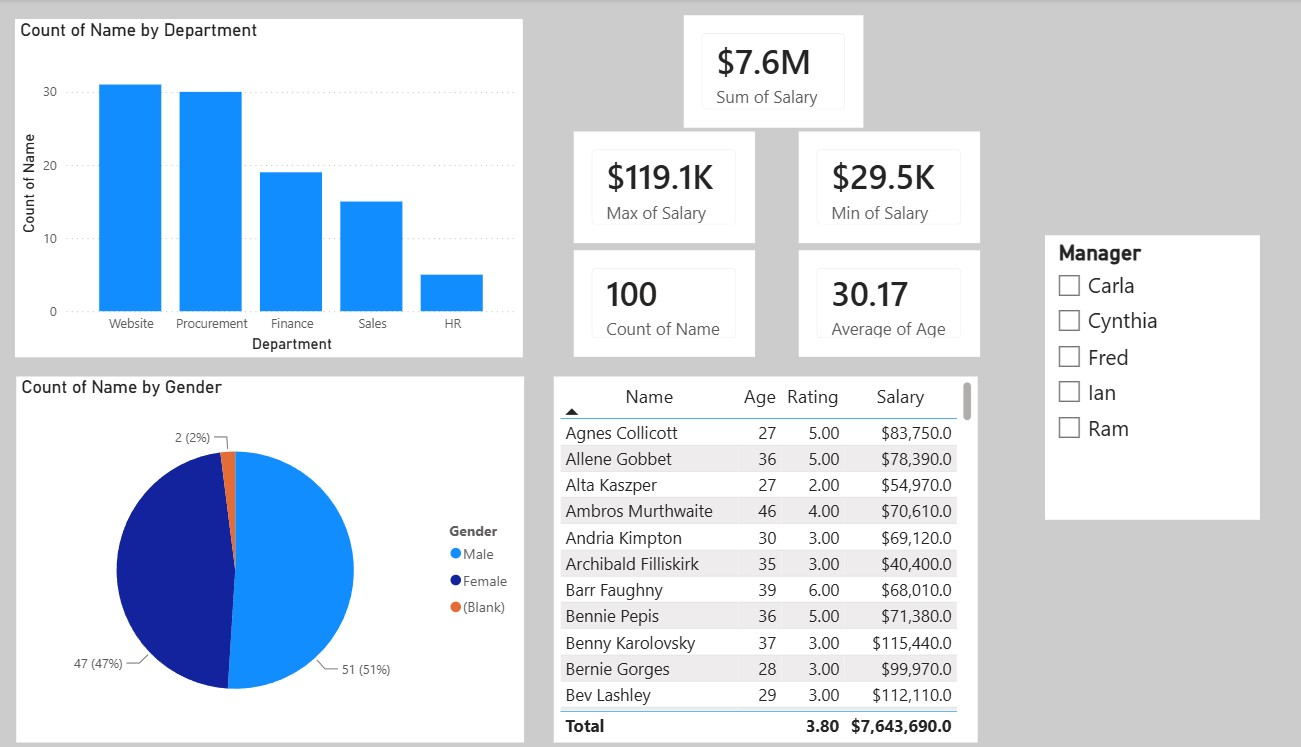

This screenshot's page, from the dashboard's own definition file:
{"tool":"powerbi","page":{"name":"Page 1","canvas":[1280,720],"ordinal":0},"visuals":[{"type":"clusteredColumnChart","fields":{"Category":["Table1.Department"],"Y":["CountNonNull(Table1.Name)"]},"box":[13.8,18.8,483.8,322.5],"z":0},{"type":"pieChart","fields":{"Category":["Table1.Gender"],"Y":["CountNonNull(Table1.Name)"]},"box":[15,360,483.8,348.8],"z":1000},{"type":"tableEx","fields":{"Values":["Table1.Name","Table1.Age","Avg(Table1.Rating)","Sum(Table1.Salary)"]},"box":[527.5,360,403.8,348.8],"z":2000},{"type":"cardVisual","fields":{"Data":["CountNonNull(Table1.Name)"]},"box":[546.2,240,172.5,101.2],"z":3000},{"type":"cardVisual","fields":{"Data":["Avg(Table1.Age)"]},"box":[761.2,240,172.5,101.2],"z":4000},{"type":"cardVisual","fields":{"Data":["Sum(Table1.Salary)"]},"box":[651.2,15,171.2,107.5],"z":5000},{"type":"cardVisual","fields":{"Data":["Min(Table1.Salary)"]},"box":[761.2,126.2,172.5,106.2],"z":6000},{"type":"cardVisual","fields":{"Data":["Max(Table1.Salary)"]},"box":[546.2,126.2,172.5,106.2],"z":7000},{"type":"slicer","fields":{"Values":["Table1.Manager"]},"box":[996.2,225,205,271.2],"z":8000}]}

Visuals, with their boxes in screenshot pixels (x1, y1, x2, y2), scaled from the page's 1280x720 canvas onto the 1301x747 screenshot:
clusteredColumnChart - Table1.Department x CountNonNull(Table1.Name): bbox=[14, 20, 506, 354]
pieChart - Table1.Gender x CountNonNull(Table1.Name): bbox=[15, 374, 507, 735]
tableEx - Table1.Name x Table1.Age: bbox=[536, 374, 947, 735]
cardVisual - CountNonNull(Table1.Name): bbox=[555, 249, 730, 354]
cardVisual - Avg(Table1.Age): bbox=[774, 249, 949, 354]
cardVisual - Sum(Table1.Salary): bbox=[662, 16, 836, 127]
cardVisual - Min(Table1.Salary): bbox=[774, 131, 949, 241]
cardVisual - Max(Table1.Salary): bbox=[555, 131, 730, 241]
slicer - Table1.Manager: bbox=[1013, 233, 1221, 515]
